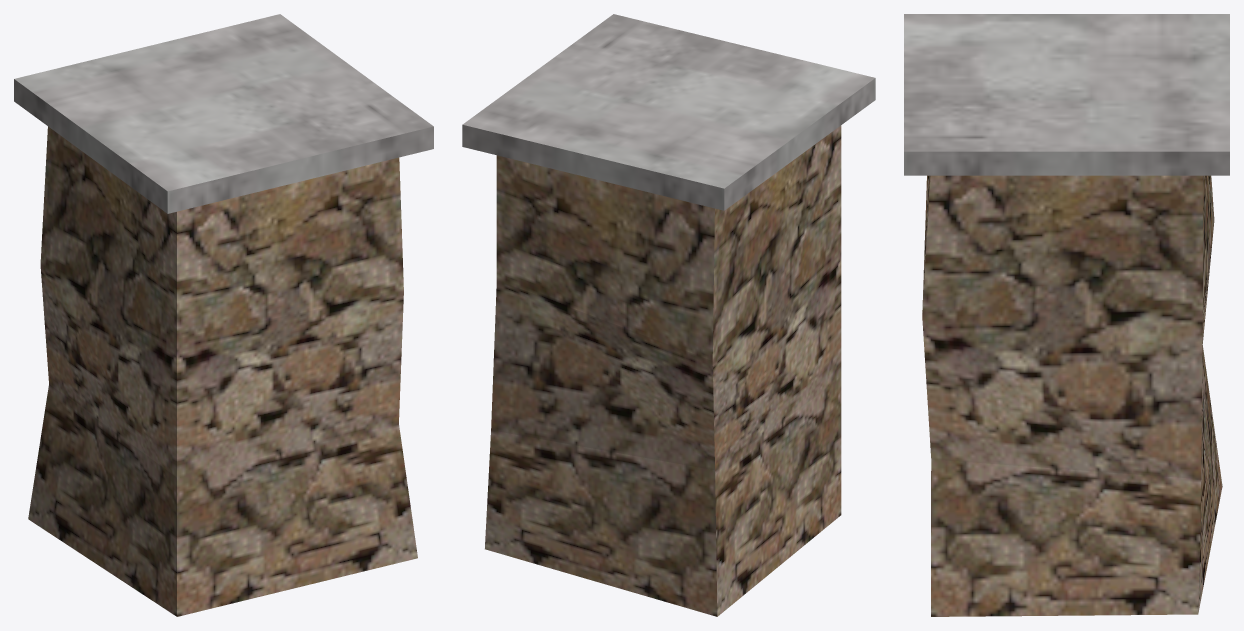
The model's file is drystone_column_capped.fbx.
3 views of the same model, side by side, from view 1: azimuth 30°, elevation 25°; view 2: azimuth 150°, elevation 25°; view 3: azimuth 270°, elevation 25° (orthographic). The views are drawn at different scales.
Visible parts, largest first — view 1: drystone_column_capped; view 2: drystone_column_capped; view 3: drystone_column_capped.
Part boxes in pixels (left/top/right/bottom): drystone_column_capped: left=14, top=14, right=433, bottom=616; drystone_column_capped: left=462, top=14, right=875, bottom=616; drystone_column_capped: left=904, top=14, right=1229, bottom=616.
Size of the model in its own units: 60 by 94.86 by 60.
Materials: 2 (2 with a texture image).
